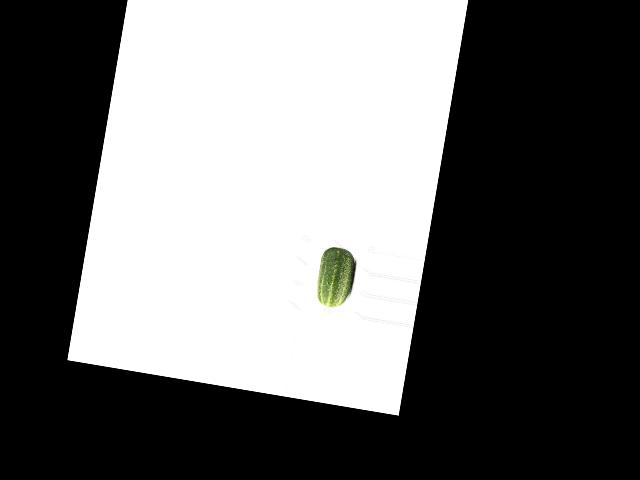cucumber: (314, 244, 358, 309)
